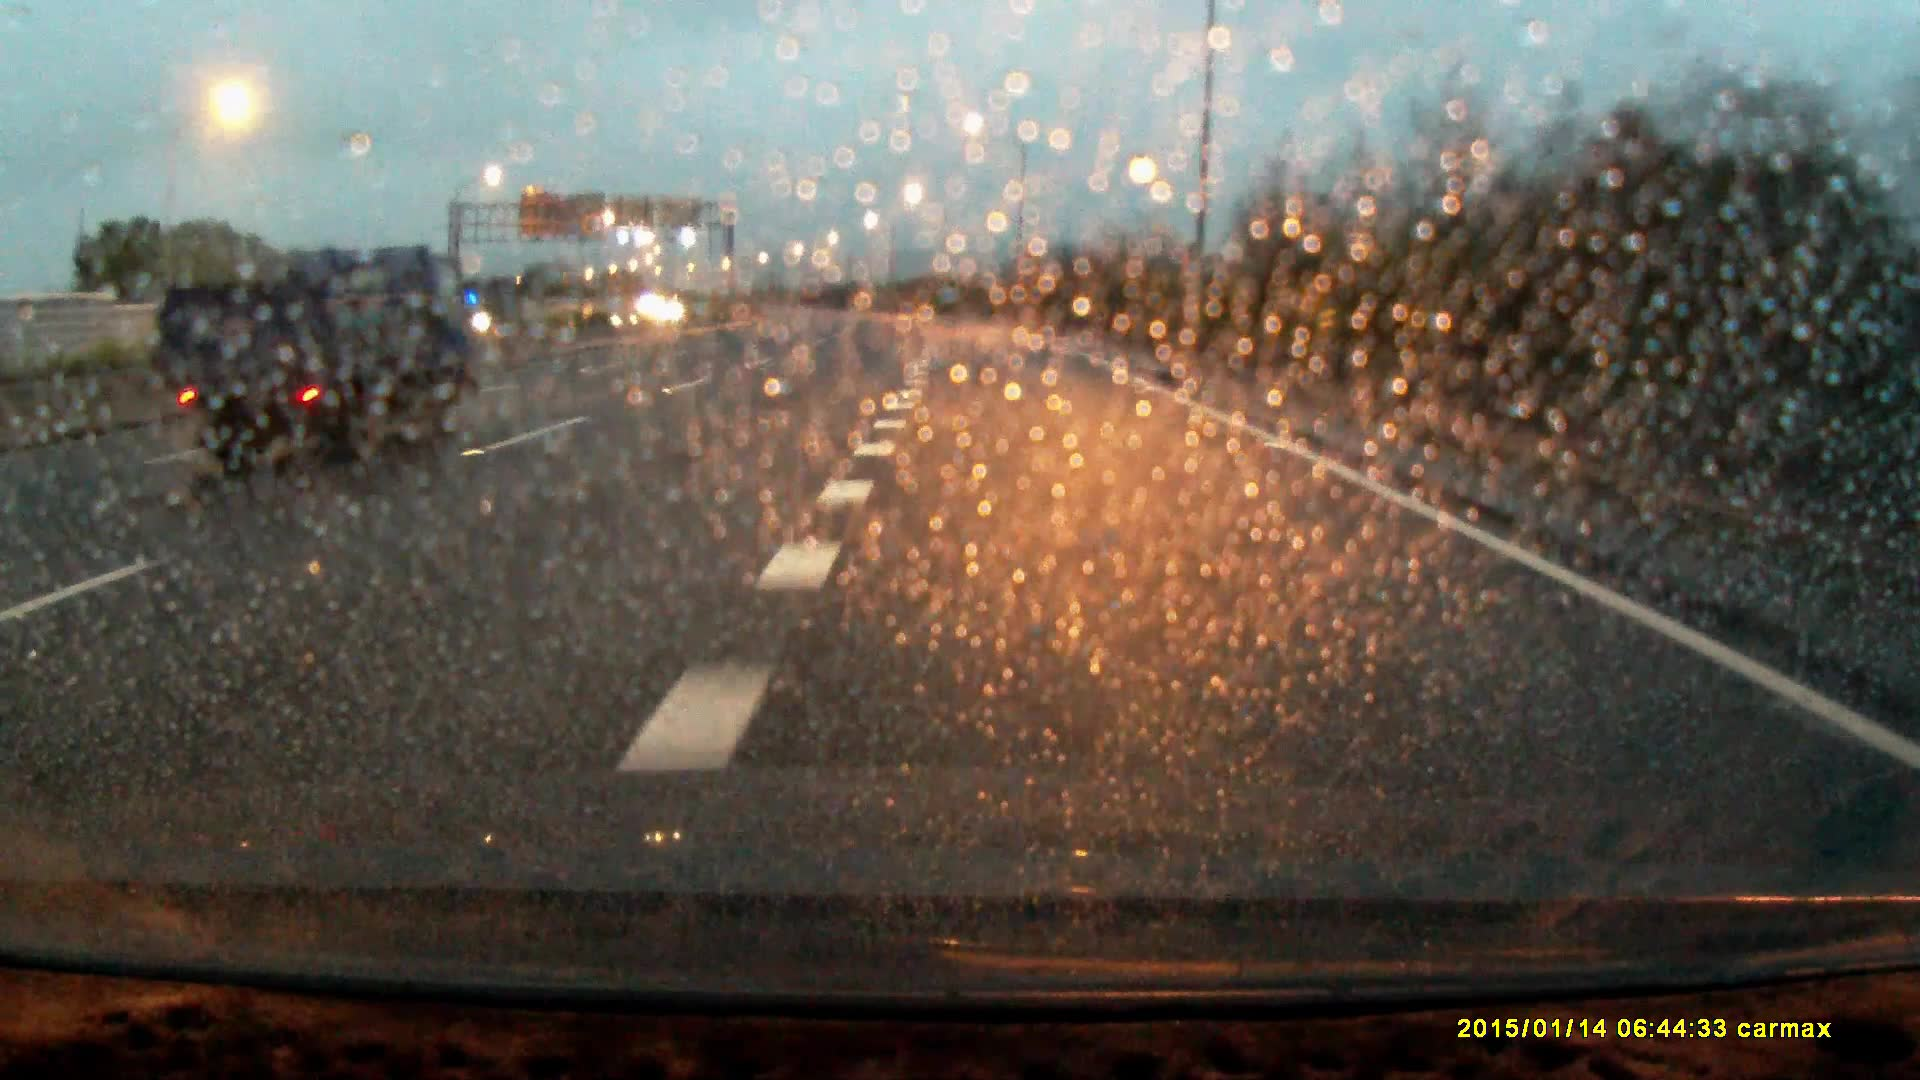vehicle: (169, 232, 459, 469)
